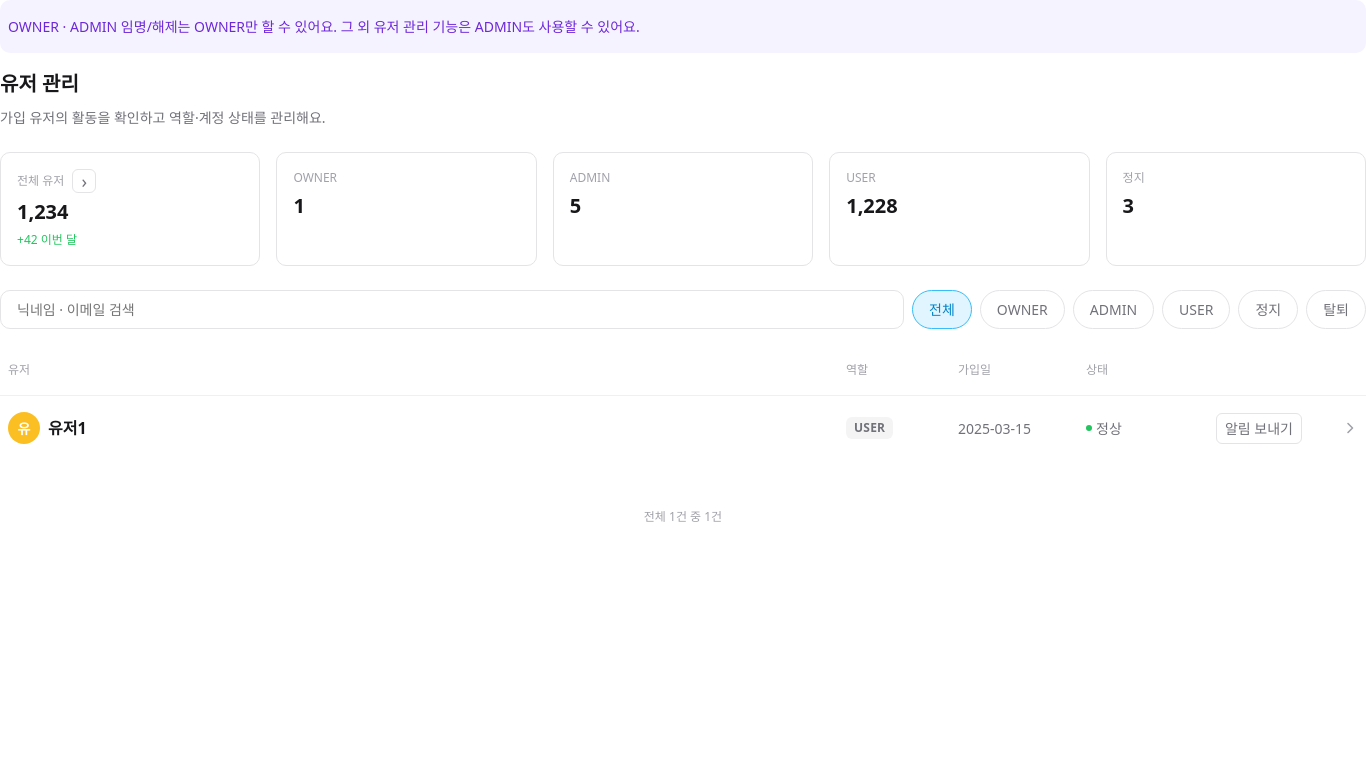
BoUsersPage › 목록 행 › "알림 보내기" 클릭은 행 navigate 를 막고 모달만 연다
The image size is (1366, 768).
Click the button "알림 보내기" at point(1259, 428), box [1216, 412, 1302, 444]
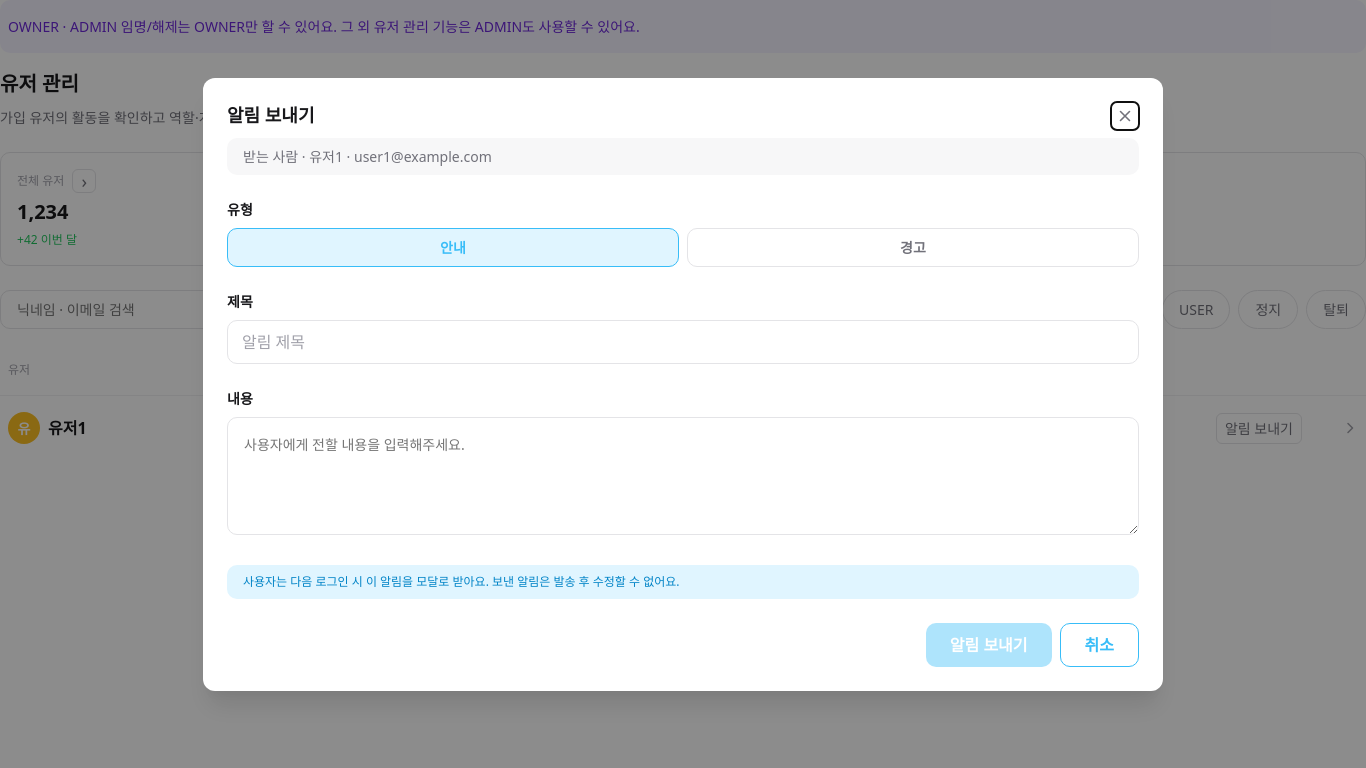
Check: the text "받는 사람 · 유저1 · user1@example.com" is shown, box [227, 138, 1139, 174]
